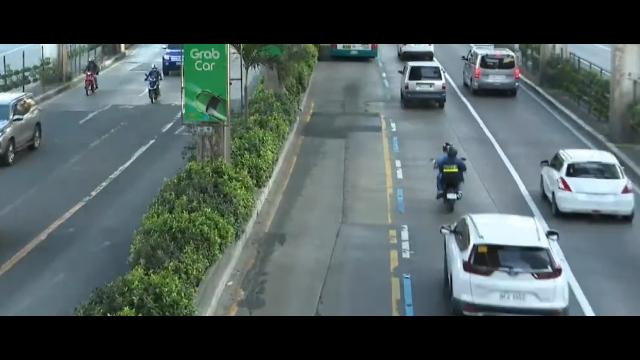bus: (328, 44, 384, 65)
car: (439, 215, 569, 315), (538, 149, 637, 222), (0, 92, 42, 165), (399, 61, 449, 110), (162, 46, 186, 74)
motorcycle: (430, 143, 467, 214), (146, 63, 162, 108), (82, 57, 100, 95)
van: (461, 46, 521, 95)
